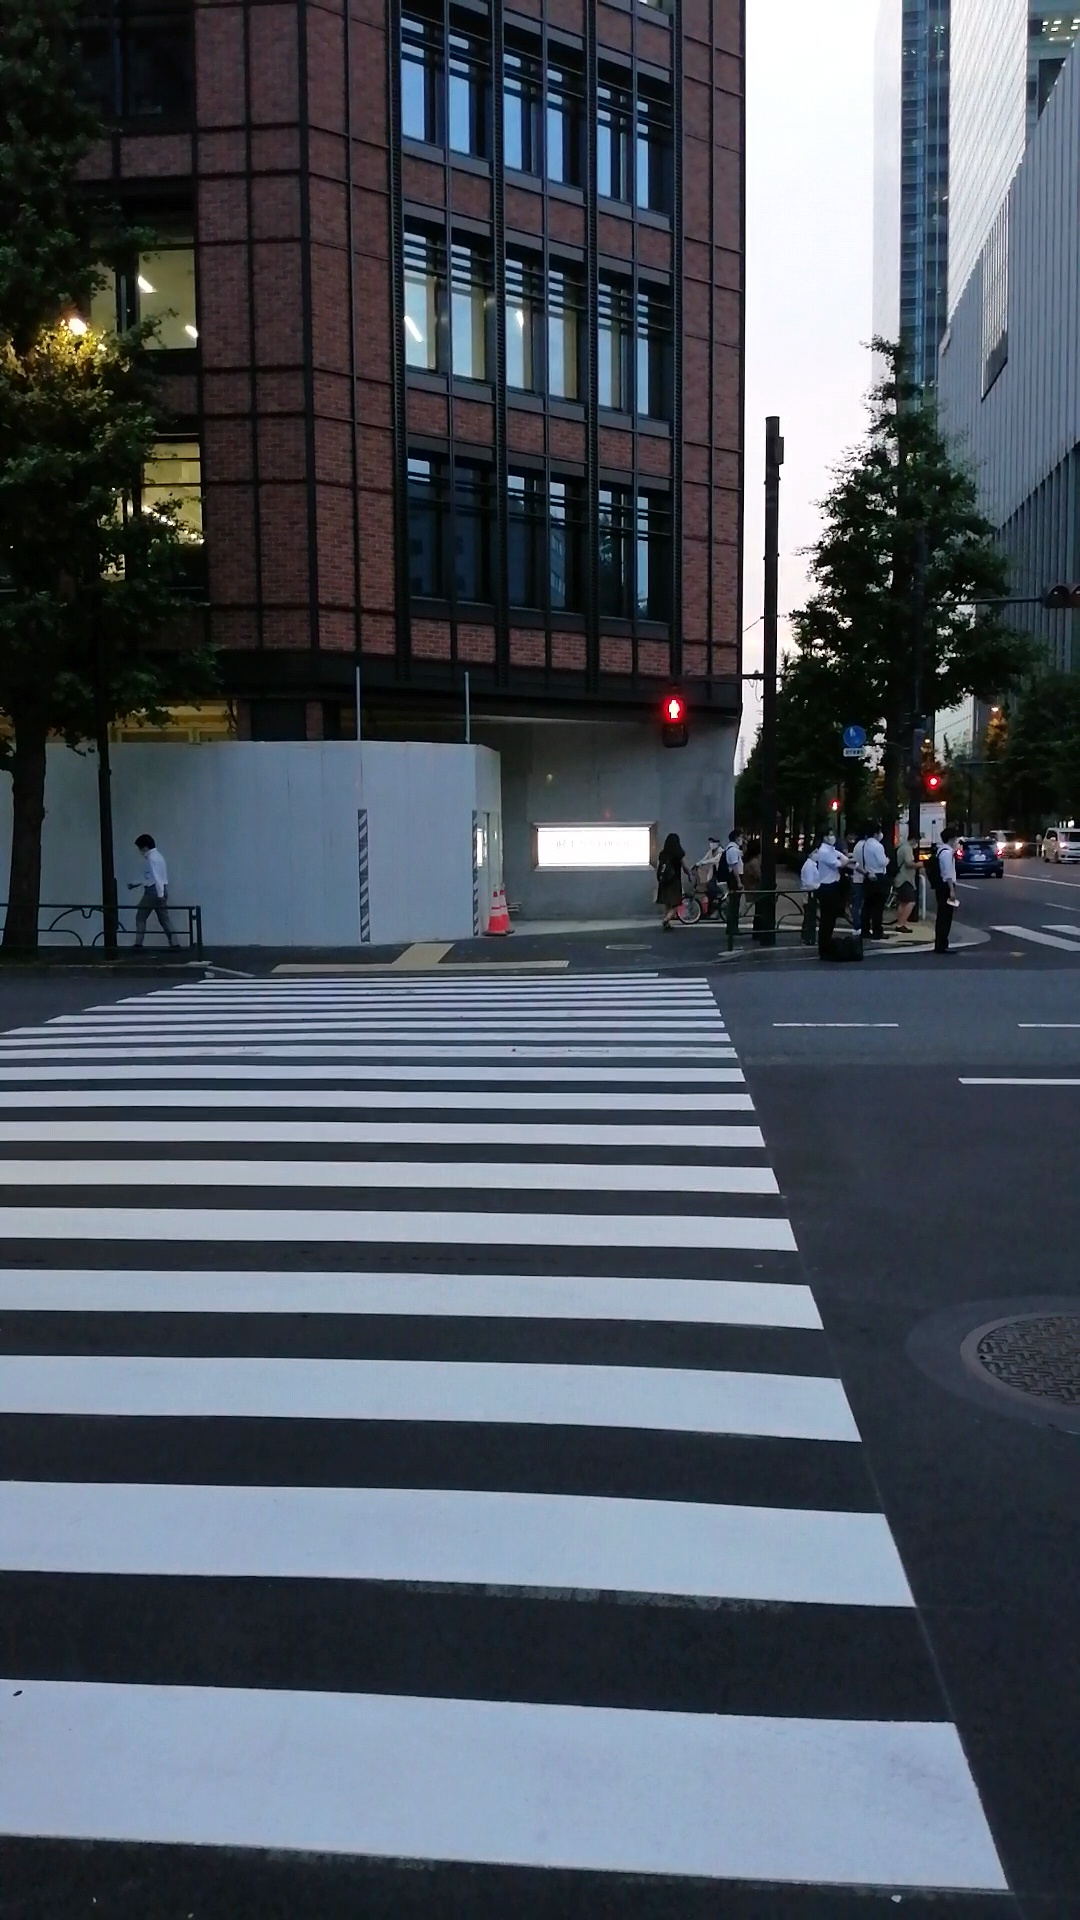red: (657, 691, 690, 748)
